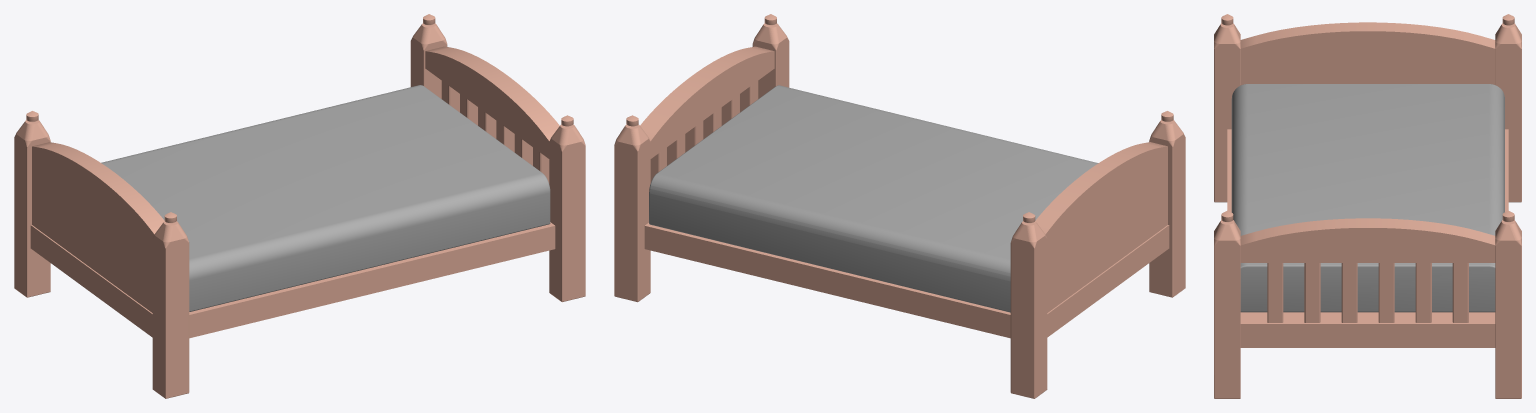
File: bed.fbx
3 views of the same model, side by side, from view 1: azimuth 30°, elevation 25°; view 2: azimuth 150°, elevation 25°; view 3: azimuth 270°, elevation 25° (orthographic).
Parts seen in each view (by area): view 1: Bed.Mattress1; view 2: Bed.Mattress1; view 3: Bed.Mattress1.
Boxes of the visible parts, x1=… form: Bed.Mattress1: x1=14, y1=14, x2=585, y2=398; Bed.Mattress1: x1=614, y1=14, x2=1185, y2=398; Bed.Mattress1: x1=1214, y1=14, x2=1521, y2=398.
Size of the model in its own units: 6122 by 2499 by 3816.
